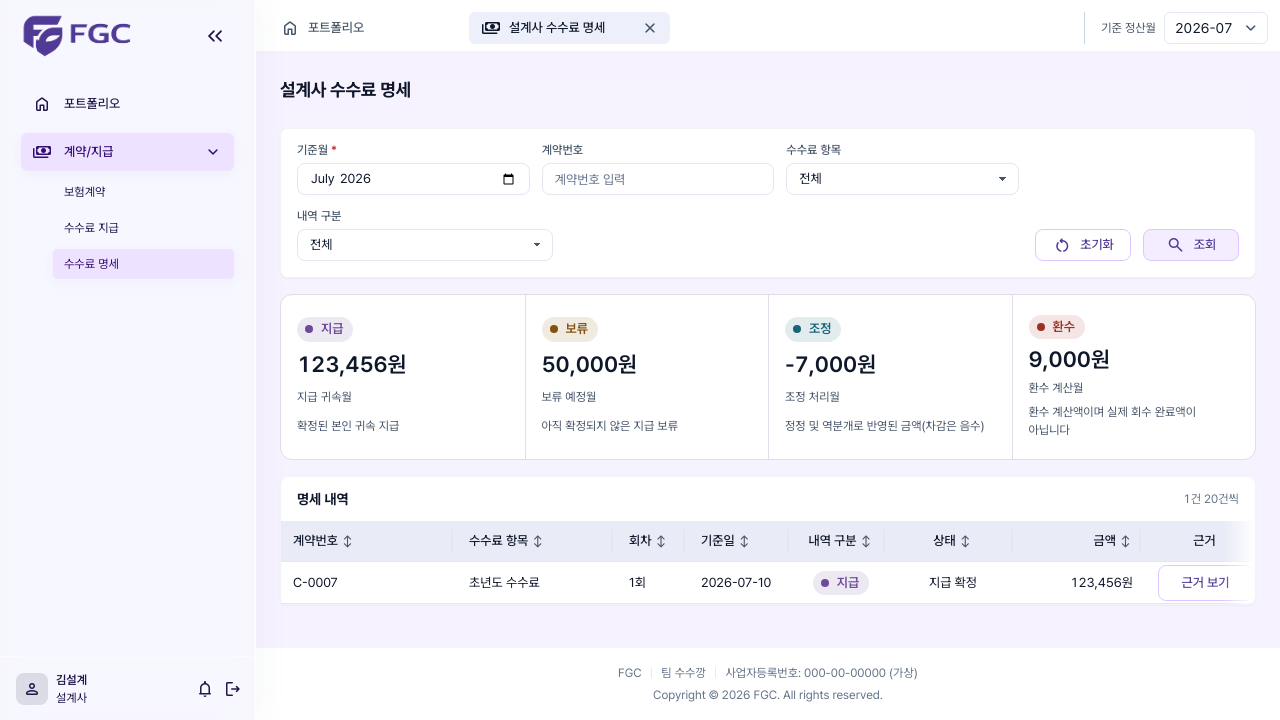
Scenario: RPT-W02 설계사 수수료 명세 › 근거 보기를 눌러도 아직 조회하지 않은 필터 입력은 지워지지 않는다
Type "C-9999" into the search field with placeholder "계약번호 입력".
click(658, 179); type("C-9999")  # box x1=542 y1=163 x2=774 y2=195
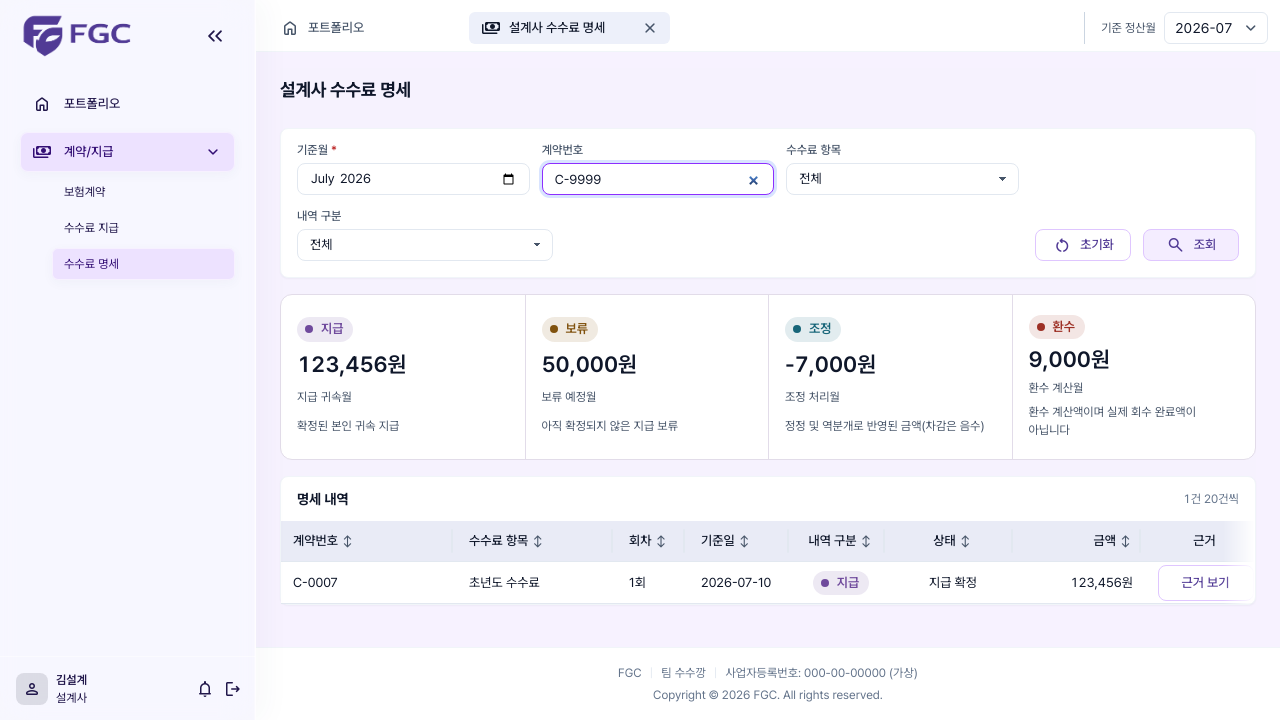
Click the button with aria-label "C-0007 근거 보기".
click(1206, 583)  # box x1=1158 y1=565 x2=1254 y2=601
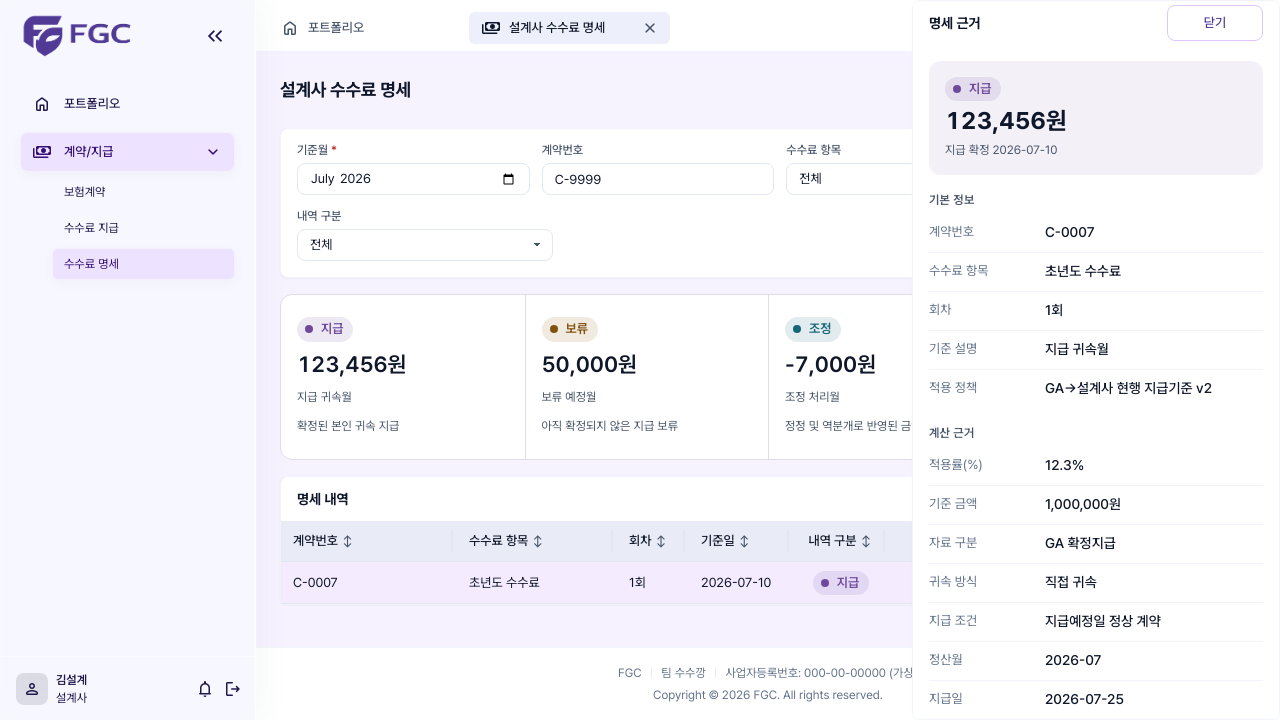
Check: the element "명세 근거" is shown, box x1=912 y1=0 x2=1279 y2=719
